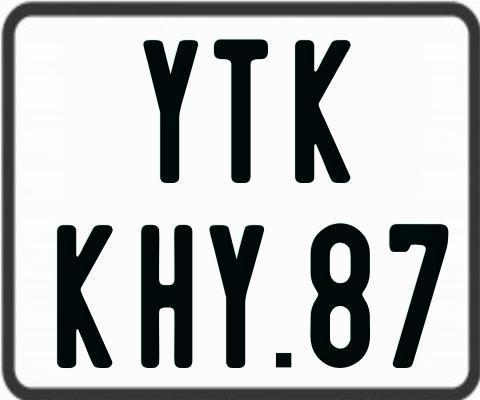7: (387, 221, 450, 370)
8: (307, 221, 372, 366)
H: (141, 223, 196, 366)
K: (293, 40, 355, 189), (56, 224, 118, 369)
T: (213, 39, 268, 187)
Y: (209, 225, 268, 370), (141, 40, 197, 186)
